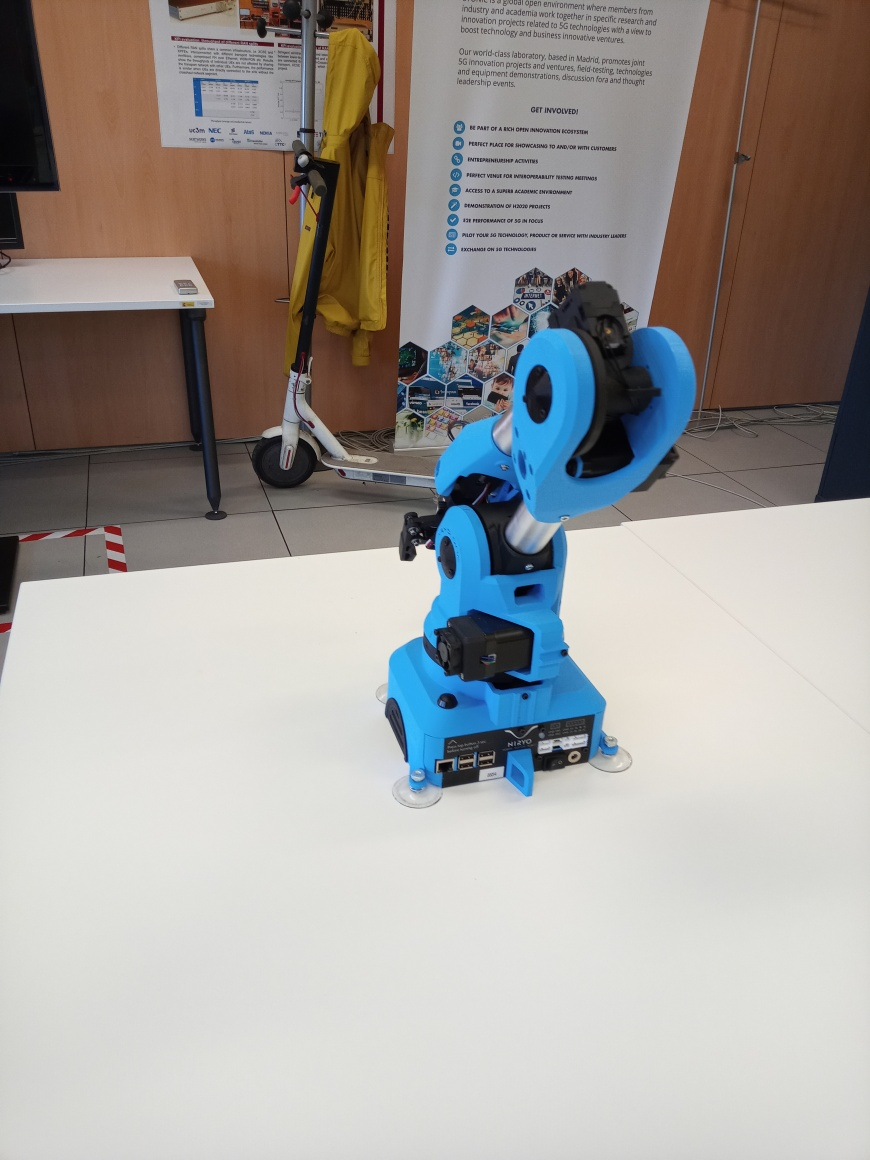robot: (374, 278, 700, 813)
